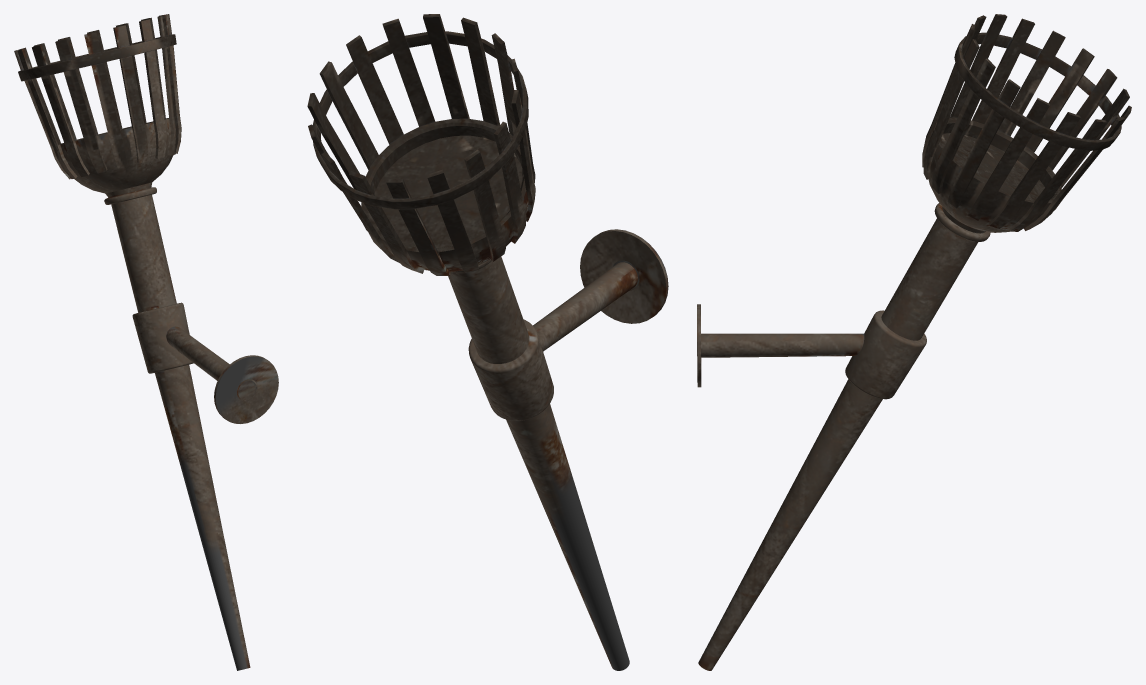
The model's file is TorchHandle 1.fbx.
The picture shows the model from 3 angles, left to right: view 1: azimuth 30°, elevation 25°; view 2: azimuth 150°, elevation 25°; view 3: azimuth 270°, elevation 25°; orthographic projection. The views are drawn at different scales.
Visible parts, largest first — view 1: Torch Handle; view 2: Torch Handle; view 3: Torch Handle.
Part boxes in pixels (x1=…): Torch Handle: x1=14, y1=14, x2=278, y2=670; Torch Handle: x1=307, y1=14, x2=668, y2=670; Torch Handle: x1=697, y1=14, x2=1131, y2=670.
Size of the model in its own units: 255 by 976 by 601.
1 material, 1 textured.
